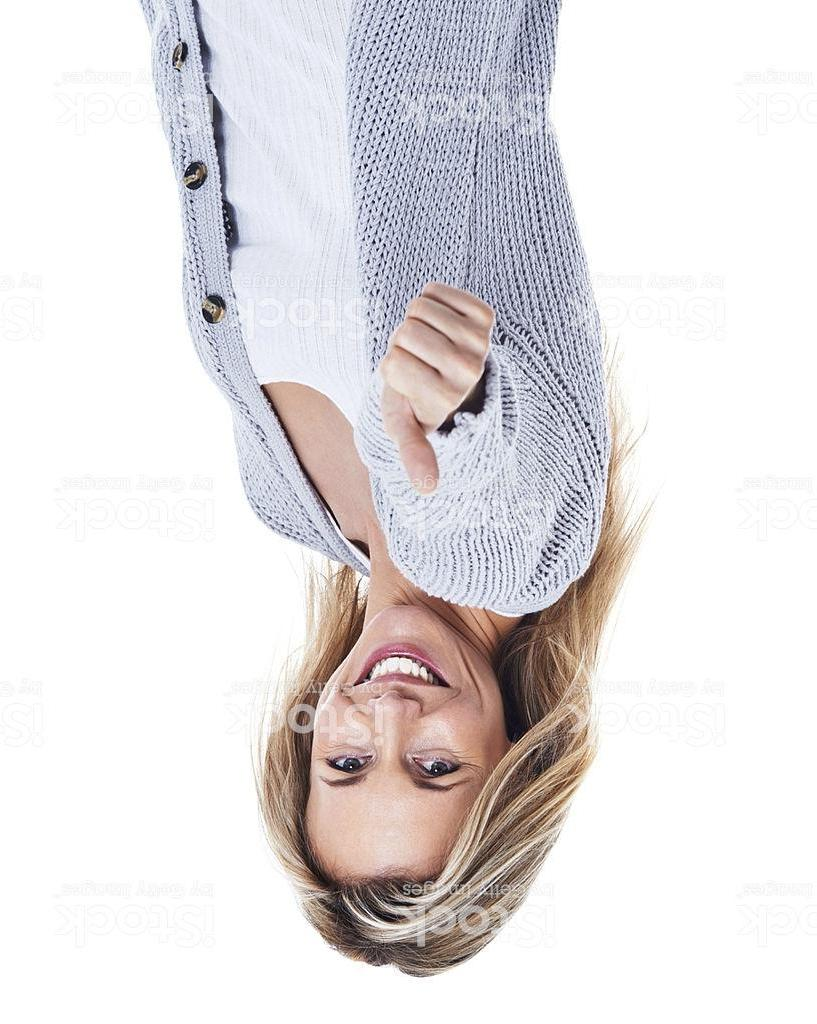thumbsdown: (378, 280, 498, 496)
